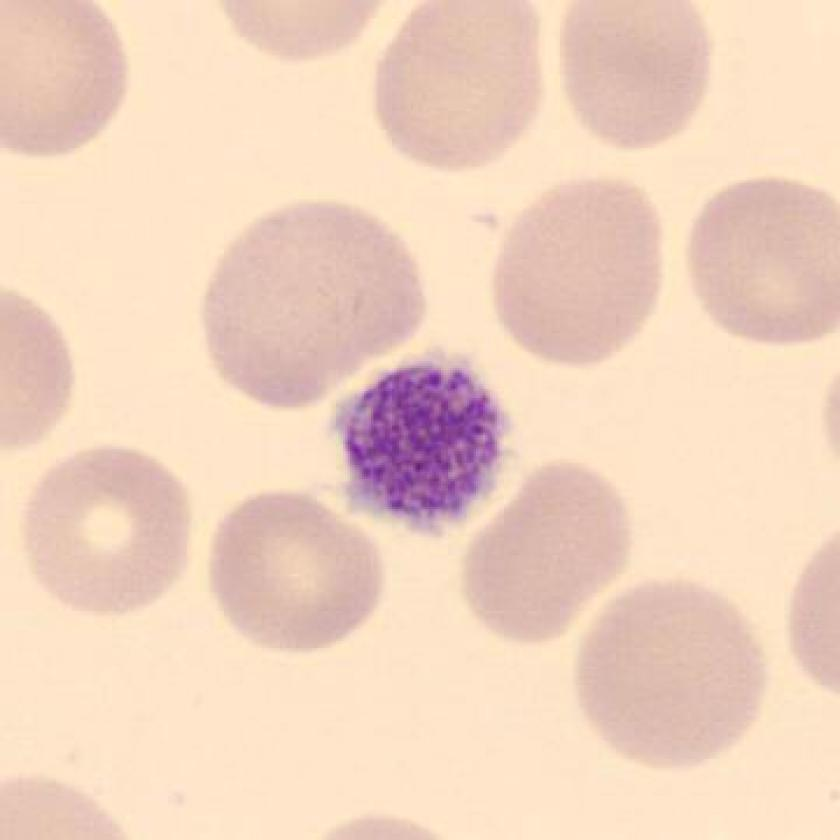platelets: (321, 341, 526, 552)
